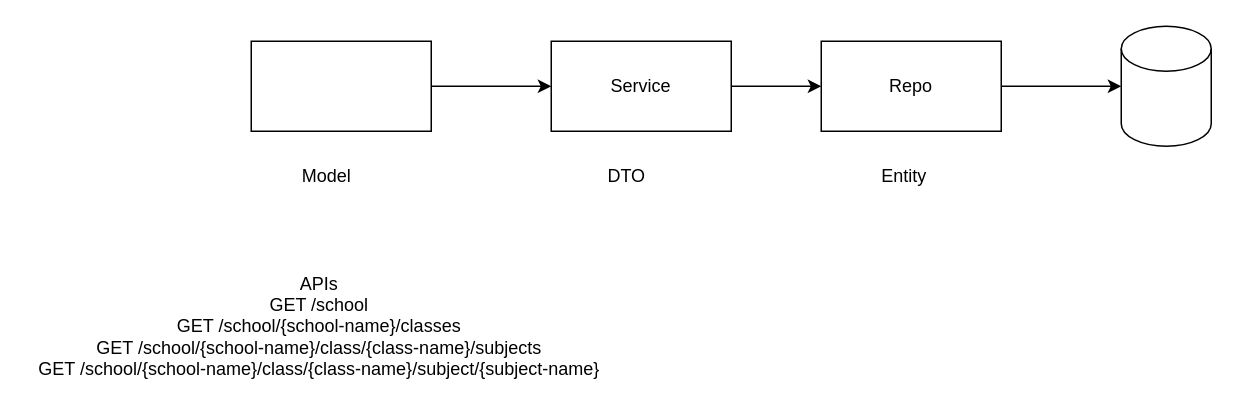
Some shapes in this 1238 by 413 pixel diagram are drawn without their labels. Here are the shapes that lost their labels. From the top down, the box of each, then its label:
(250, 40, 431, 131): Controller
(1120, 25, 1211, 146): postgres/ school_db
